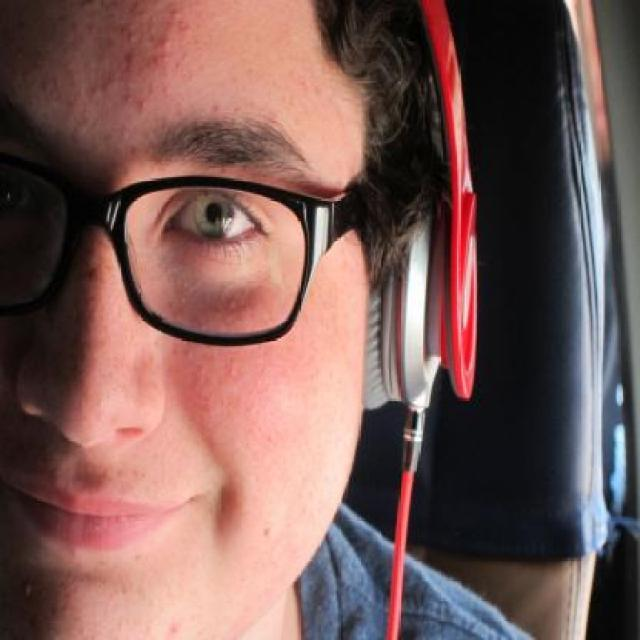earphone: (353, 0, 487, 475)
